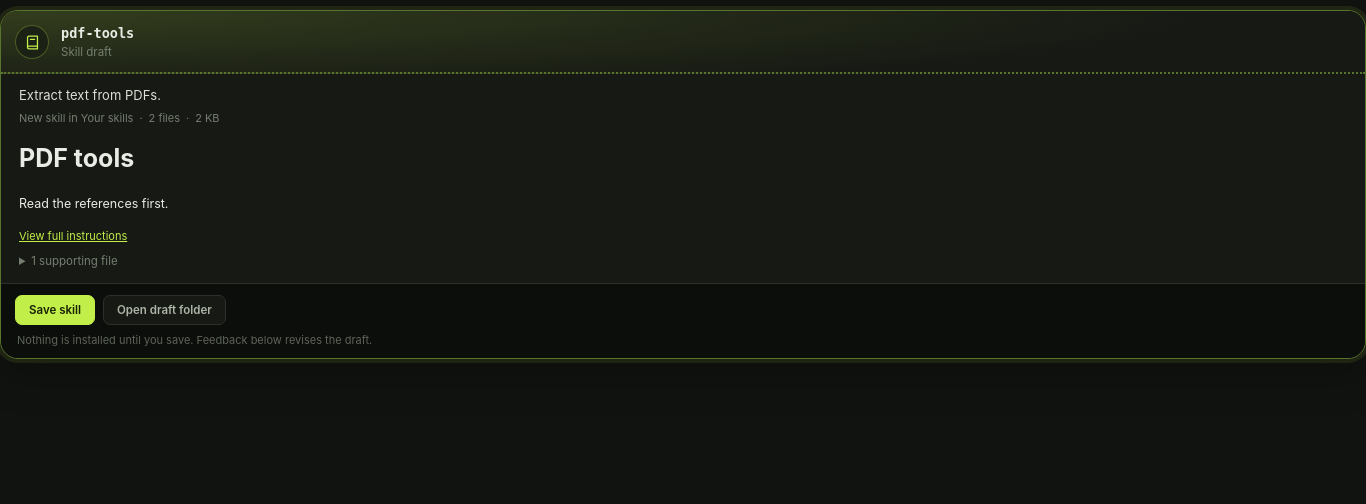
SkillDraftCard › loads the full instructions on demand
The width and height of the screenshot is (1366, 504).
Step 1. Click the button "View full instructions" → (73, 237), box x1=19 y1=228 x2=127 y2=245
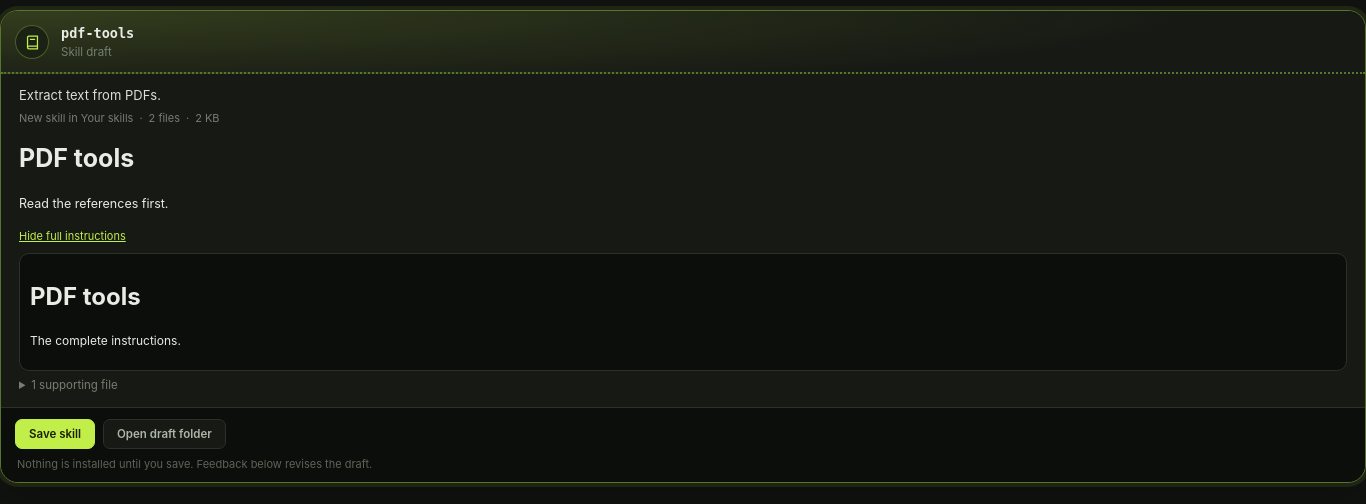
Result: the text "The complete instructions." is shown at x1=30 y1=333 x2=181 y2=348
Step 2. Click the button "Hide full instructions" → (72, 237), box x1=19 y1=228 x2=126 y2=245
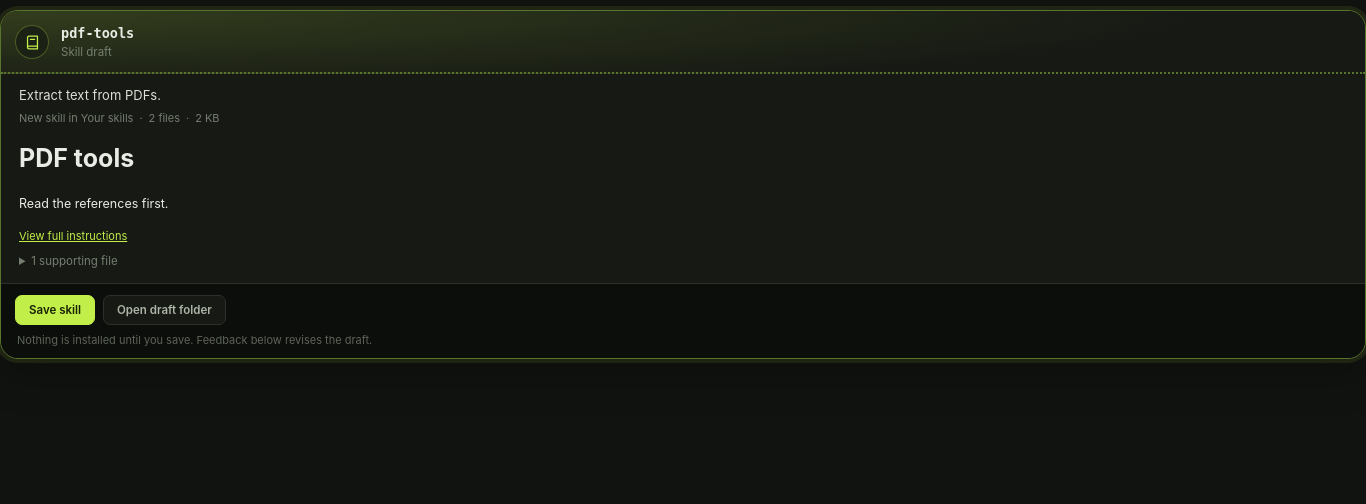
Result: the text "The complete instructions." is gone
